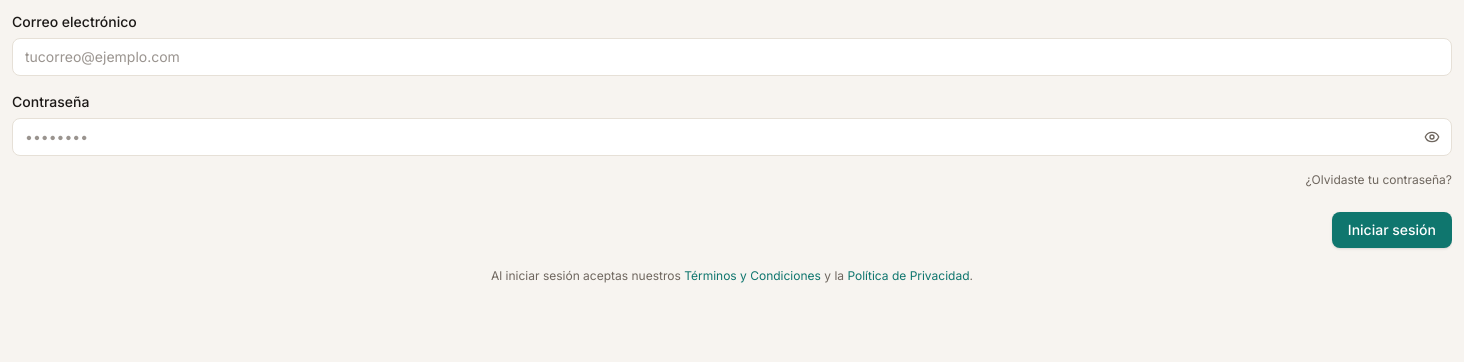
Test: LoginForm › borra el mensaje de error cuando el usuario vuelve a escribir
Type "cliente@superamigos.test" into the field labelled "Correo electrónico" at (732, 57), box [12,38,1452,76]
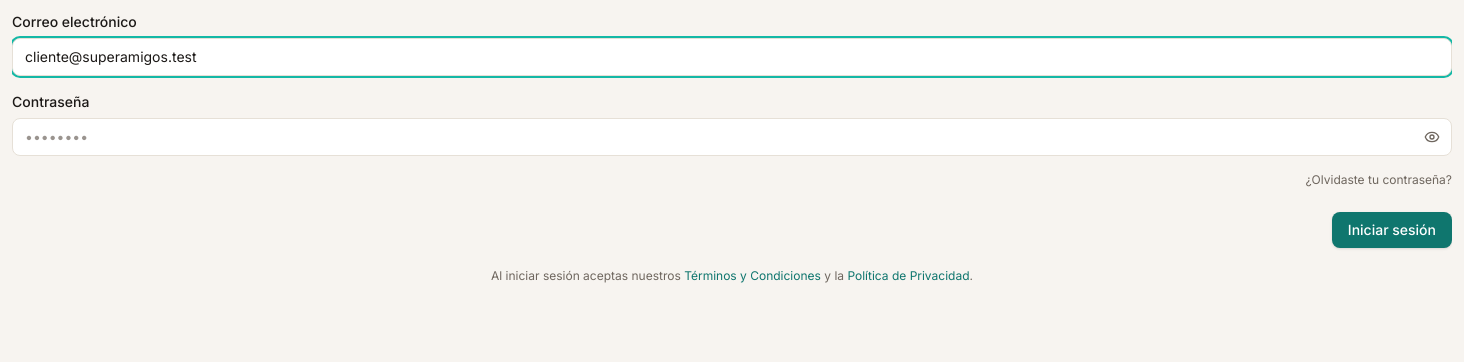
Type "Clave123!" into the password field labelled "Contraseña" at (732, 137), box [12,118,1452,156]
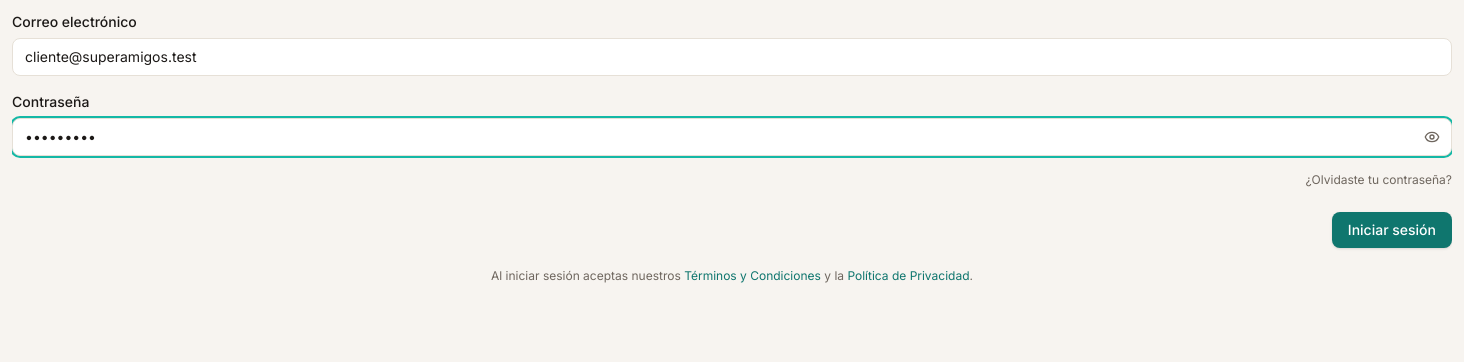
Click the button "Iniciar sesión" at (1392, 230), box [1332,212,1452,248]
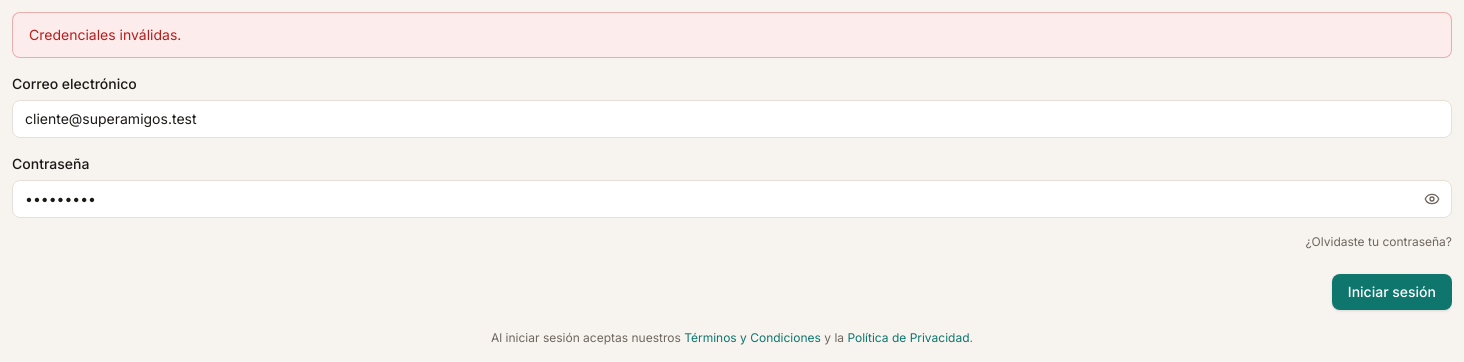
Check: the message "Credenciales inválidas." is shown, box [12,12,1452,58]
Type "x" into the password field labelled "Contraseña" at (732, 199), box [12,180,1452,218]
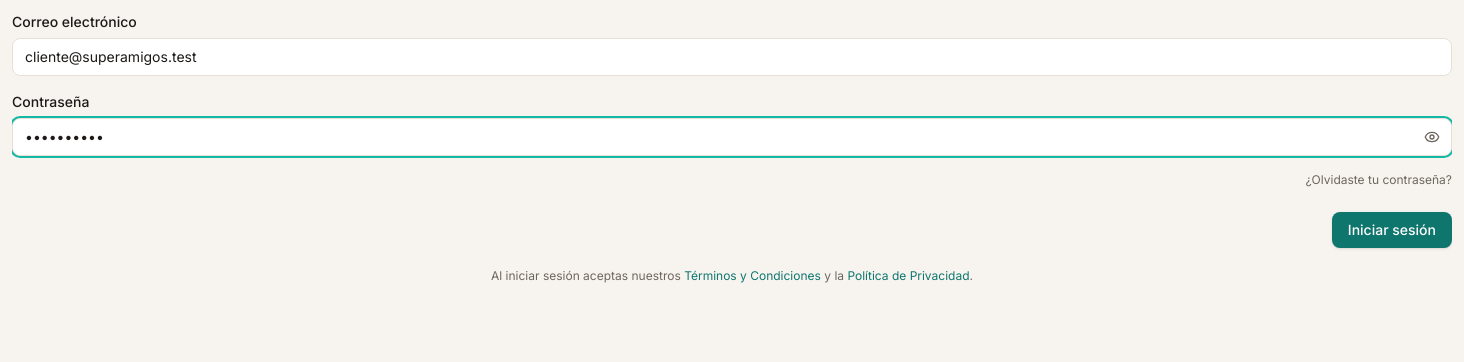
Check: the message "Credenciales inválidas." is gone
